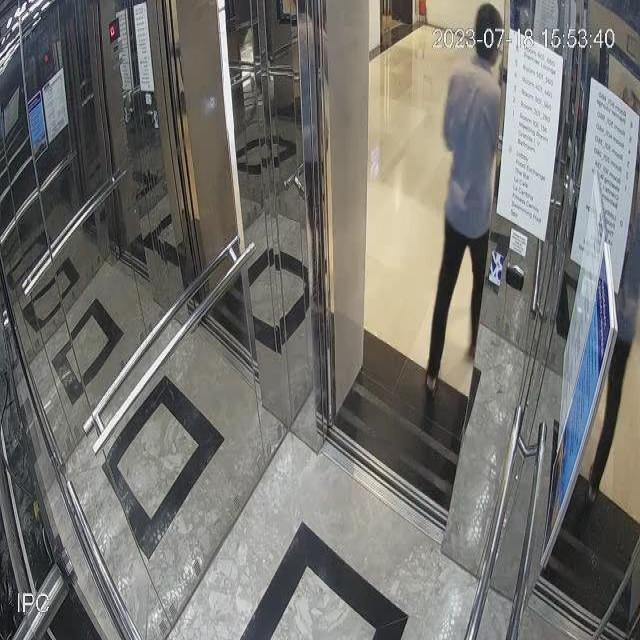person: (425, 0, 514, 405)
